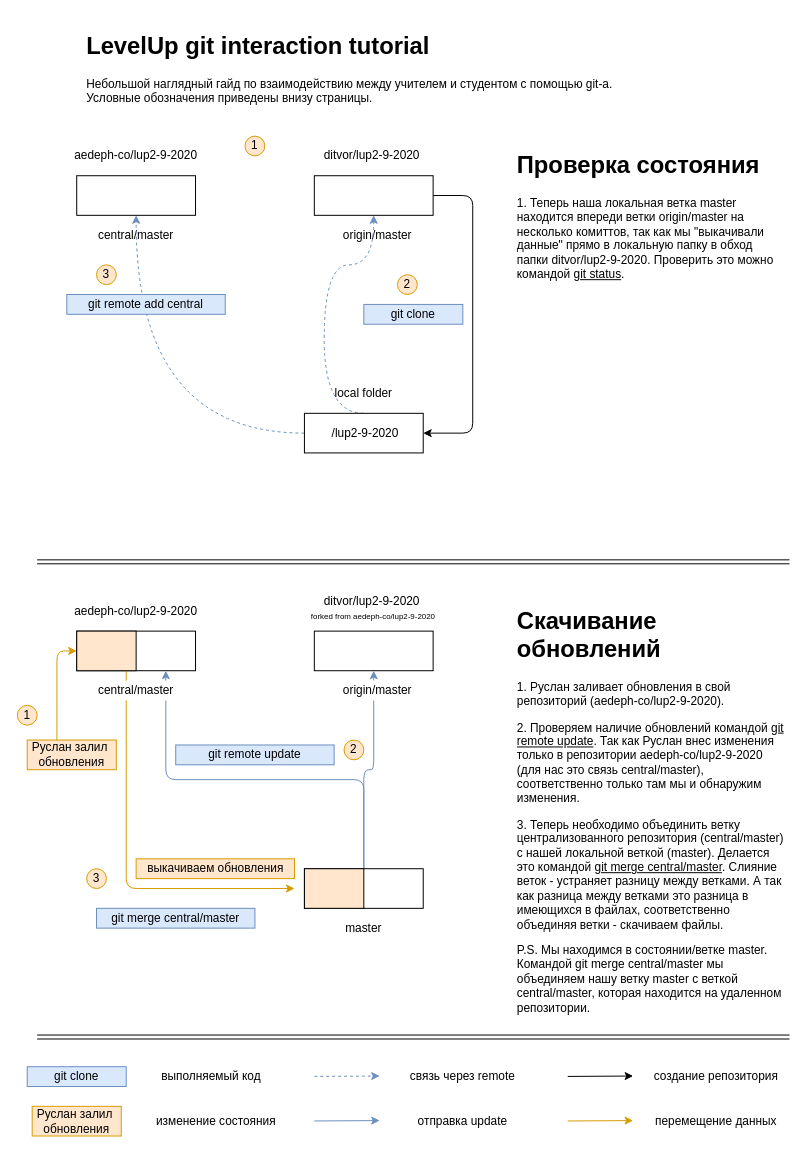
The diagram is 807 pixels wide and 1153 high, and some of its shapes have lost their labels. Each missing label, with the centre of its shape:
local /lup2-9-2020: pixel 333 888
Репозиторий: pixel 136 195
